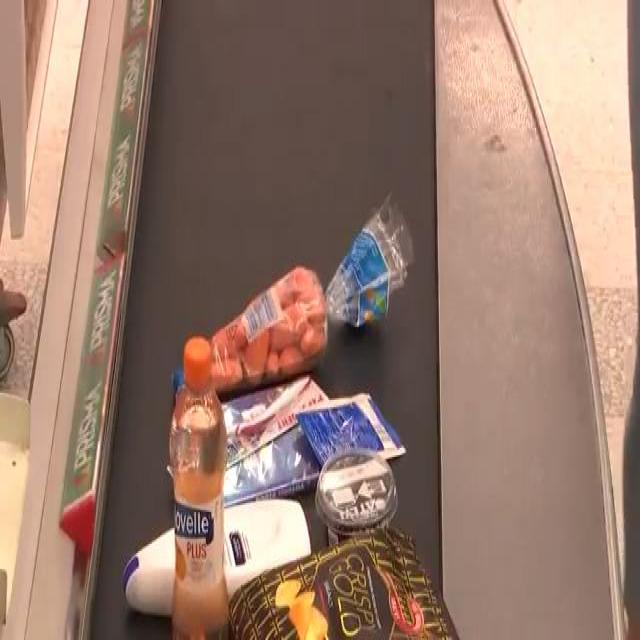beverage: (172, 332, 231, 640)
food-box: (242, 528, 430, 640), (312, 440, 406, 538)
fruit: (171, 238, 384, 390)
utility-box: (131, 492, 309, 628), (226, 369, 330, 506), (296, 396, 415, 464)
